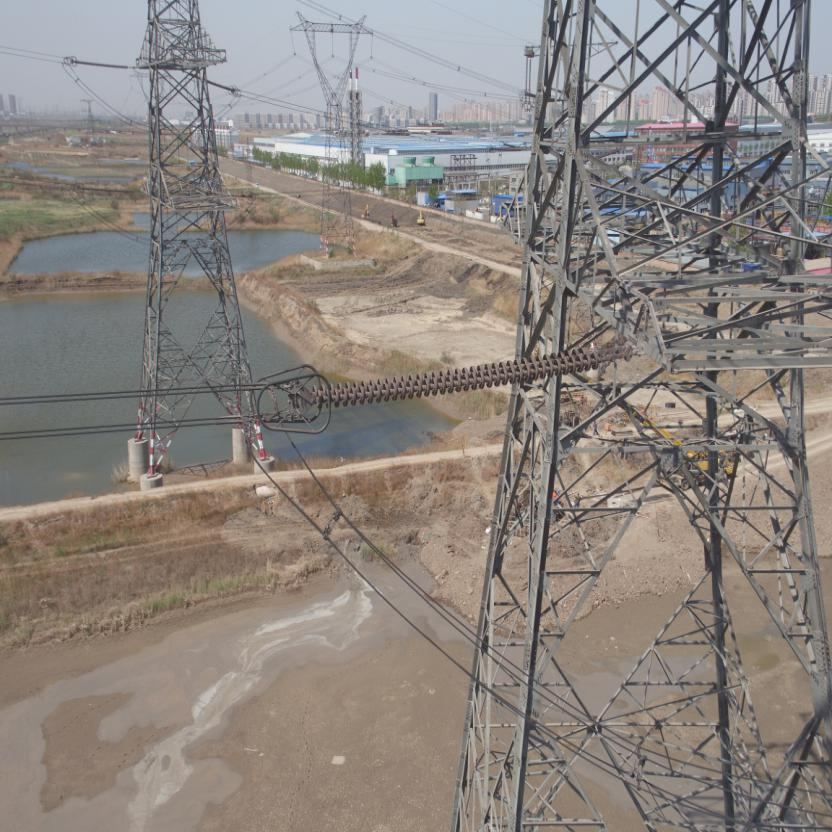insulator: (306, 343, 611, 412)
